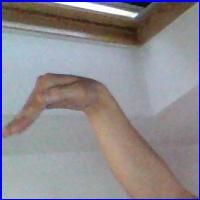del: (8, 72, 117, 155)
